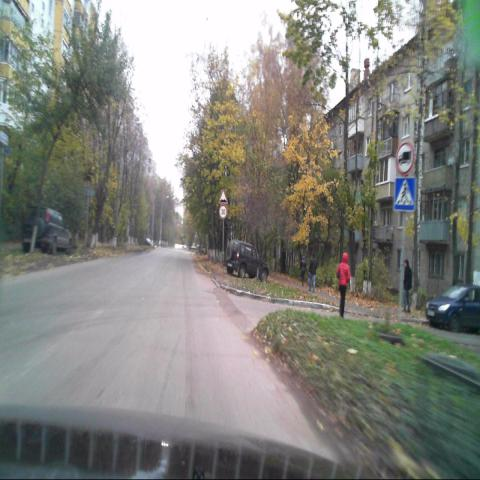3_4_1: (396, 143, 413, 175)
